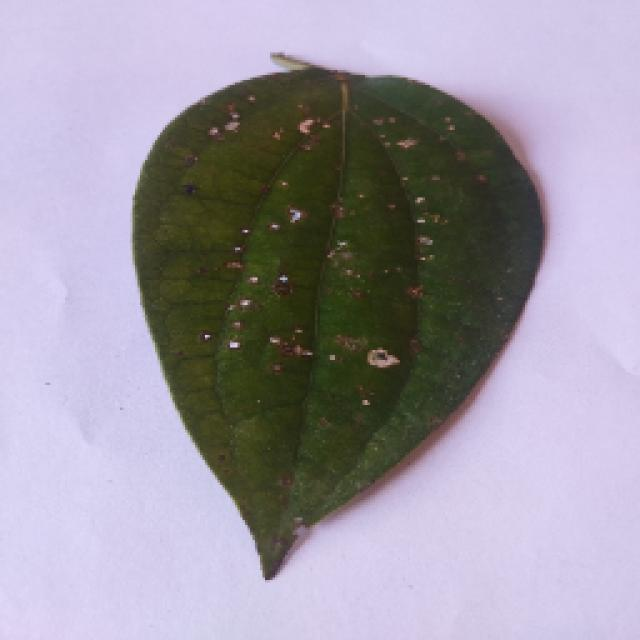pollu-disease: (67, 55, 585, 590)
